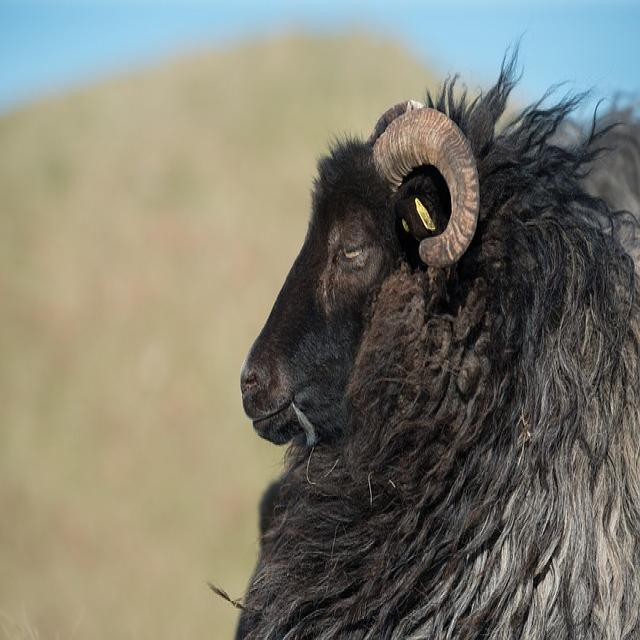goat: (233, 72, 640, 640)
